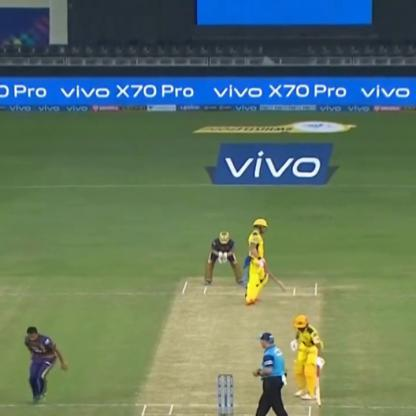pitch: (131, 272, 325, 415)
